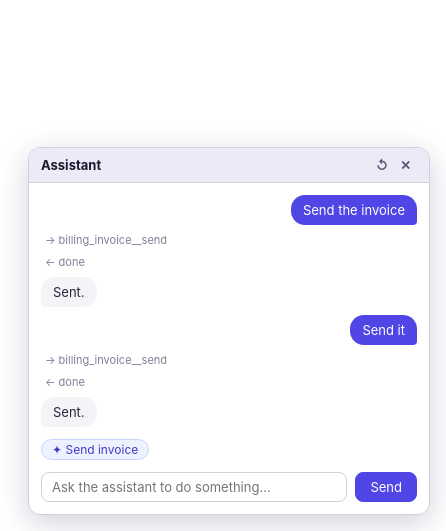
Scenario: AgentFaceAssistant widget › declining leaves the action unexecuted
Type "Send it" into the field named "Assistant instruction" at (194, 487), box [41,472,347,502]
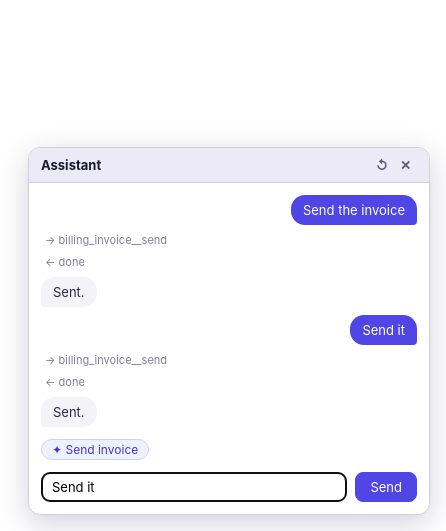
Click the button "Send" at (386, 487), box [355,472,417,502]
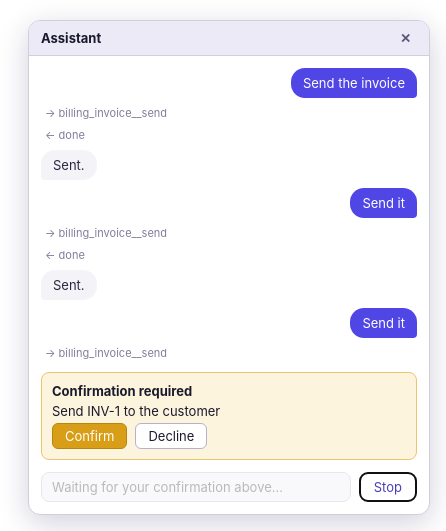
Click the button "Decline" at (171, 436), box [135,423,207,449]
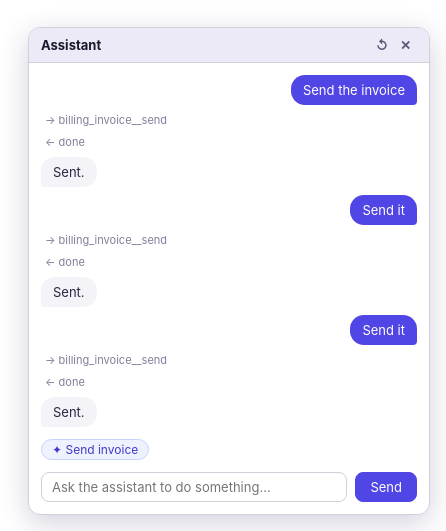
Expected: the element with test id "confirmation-card" is gone
